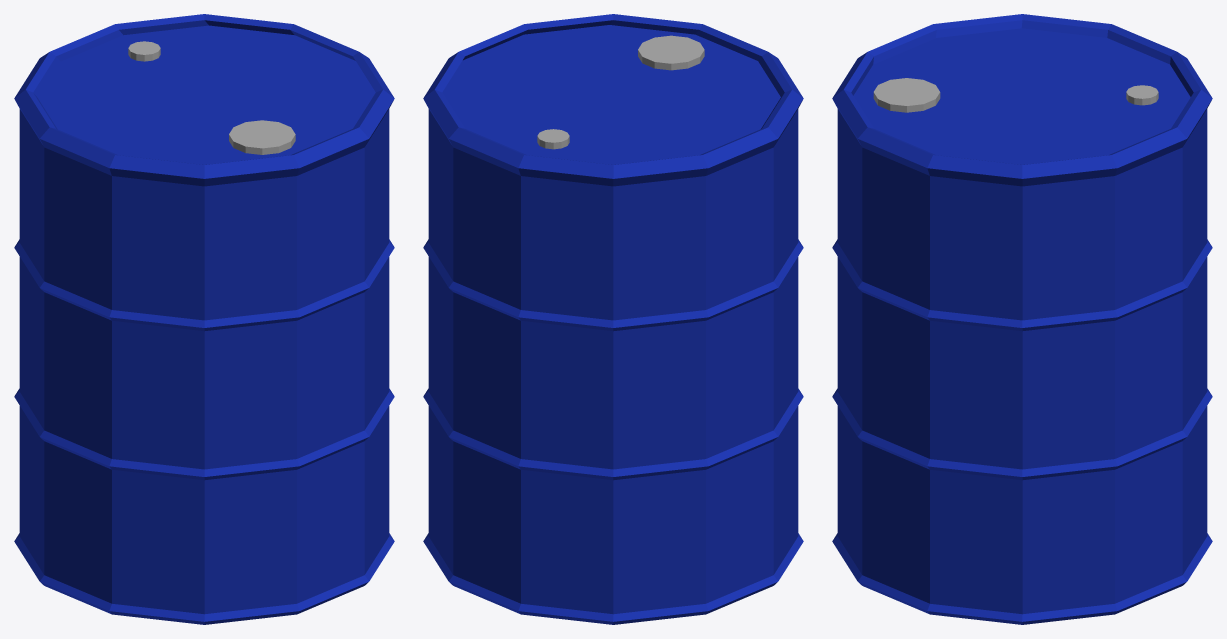
File: Blue_Drum.fbx
The picture shows the model from 3 angles, left to right: view 1: azimuth 30°, elevation 25°; view 2: azimuth 150°, elevation 25°; view 3: azimuth 270°, elevation 25°; orthographic projection.
Visible parts, largest first — view 1: Cylinder.001; view 2: Cylinder.001; view 3: Cylinder.001.
Part boxes in pixels (x1,y1,x2,y2): Cylinder.001: (14, 14, 394, 624); Cylinder.001: (423, 14, 803, 624); Cylinder.001: (832, 14, 1212, 624).
Size of the model in its own units: 77.16 by 102 by 77.16.
